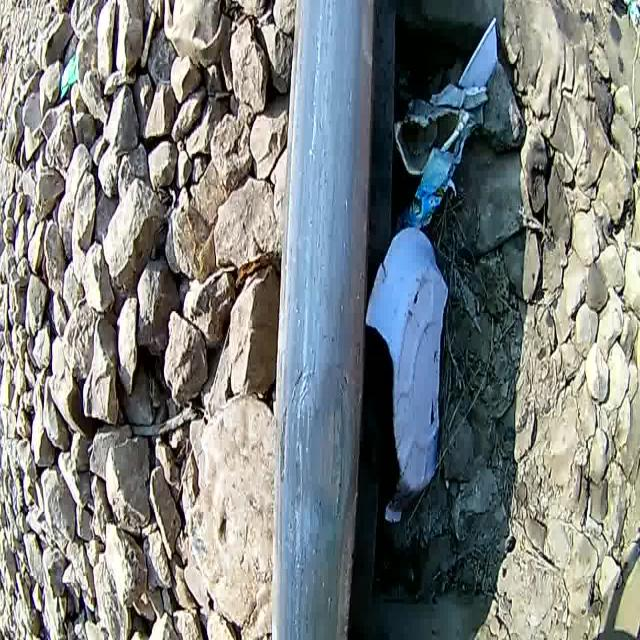Squats: (244, 0, 396, 640)
